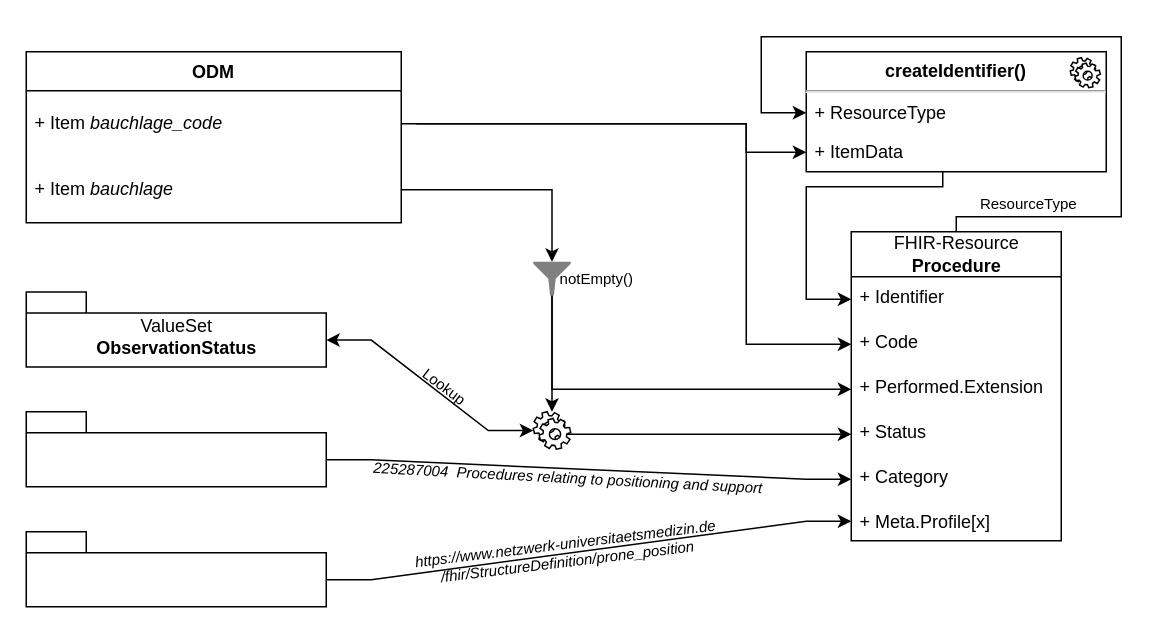
Image size: 1160x633. Some labels were removed from this diagram. Each missing label, with the box of its shape:
Codesystem SNOMED-CT: (25, 410, 326, 487)
GECCO Profiles: (25, 530, 326, 607)
